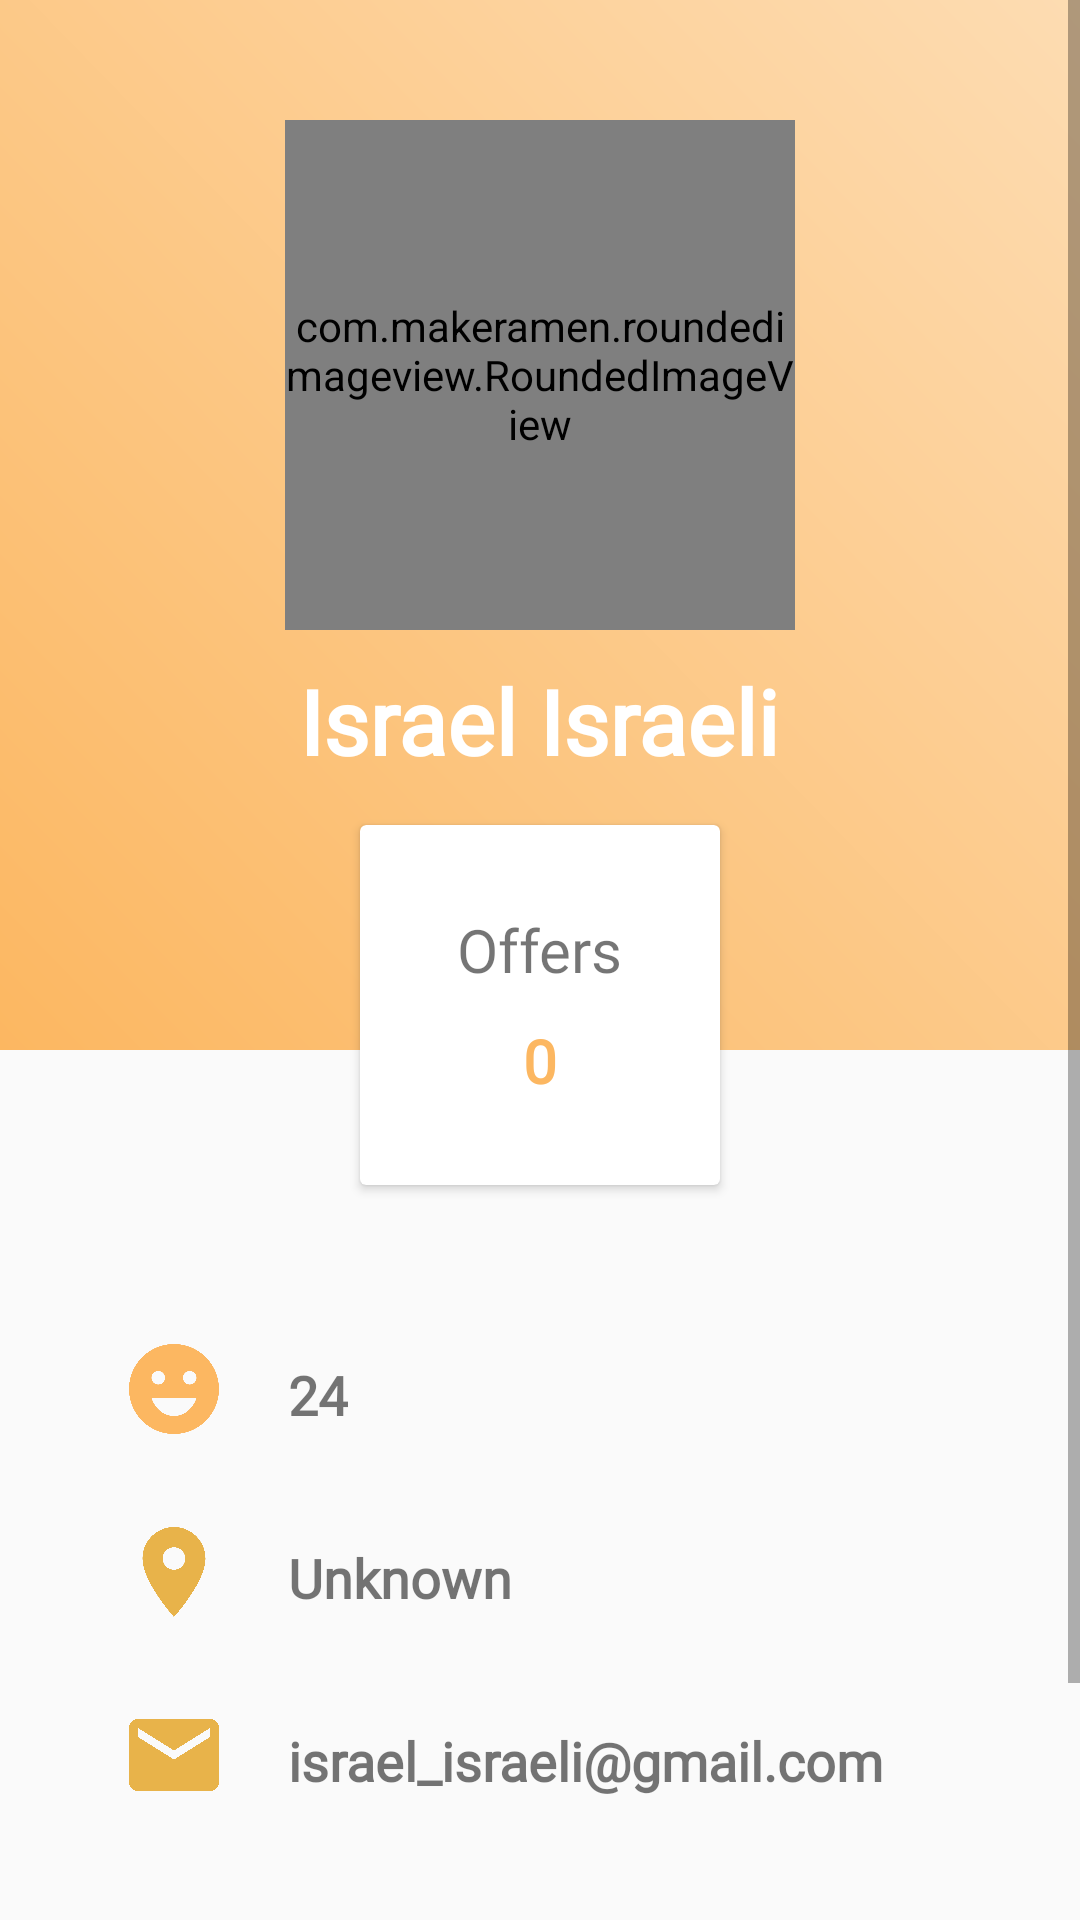

Named icons in this screenshot (1080px×1920px) and their bounding boxes, (x1, y1, x2, y2):
email: (129, 1719, 219, 1791)
emoji emotions: (129, 1344, 219, 1434)
location on: (142, 1527, 206, 1617)
